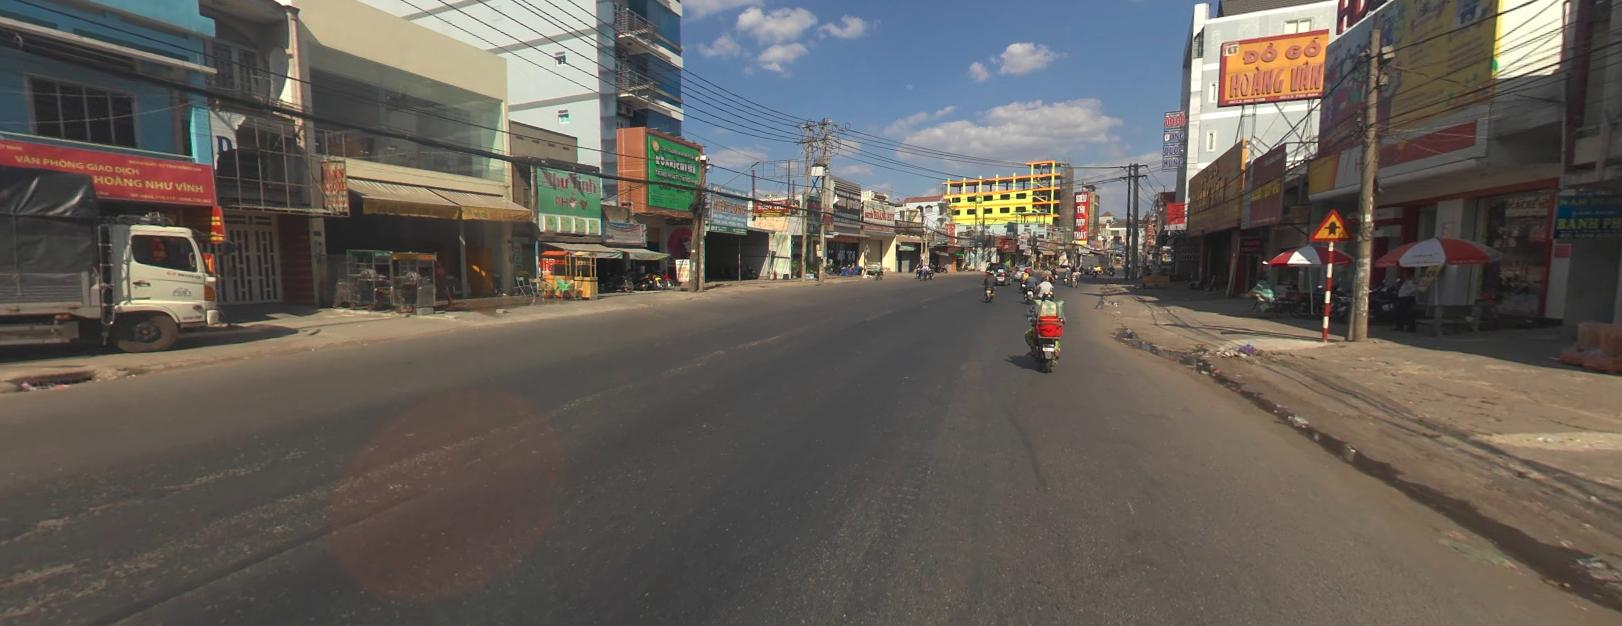Nguy hiem: (1306, 204, 1354, 240)
